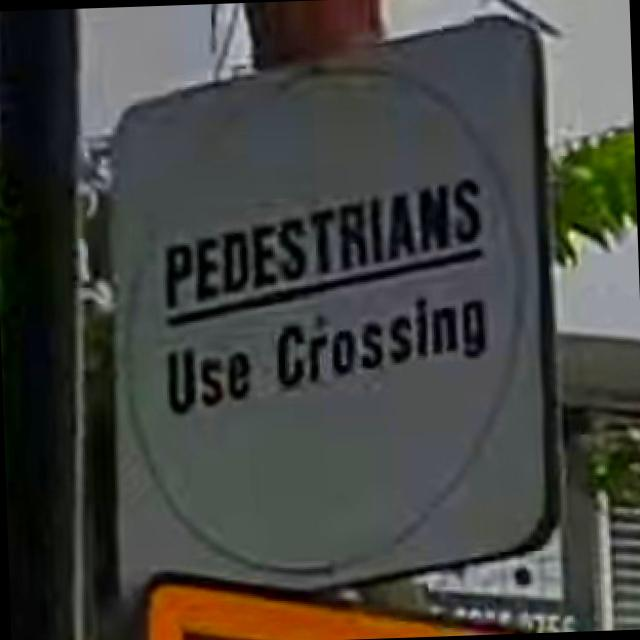pedestriancrossing_sign: (86, 10, 567, 602)
